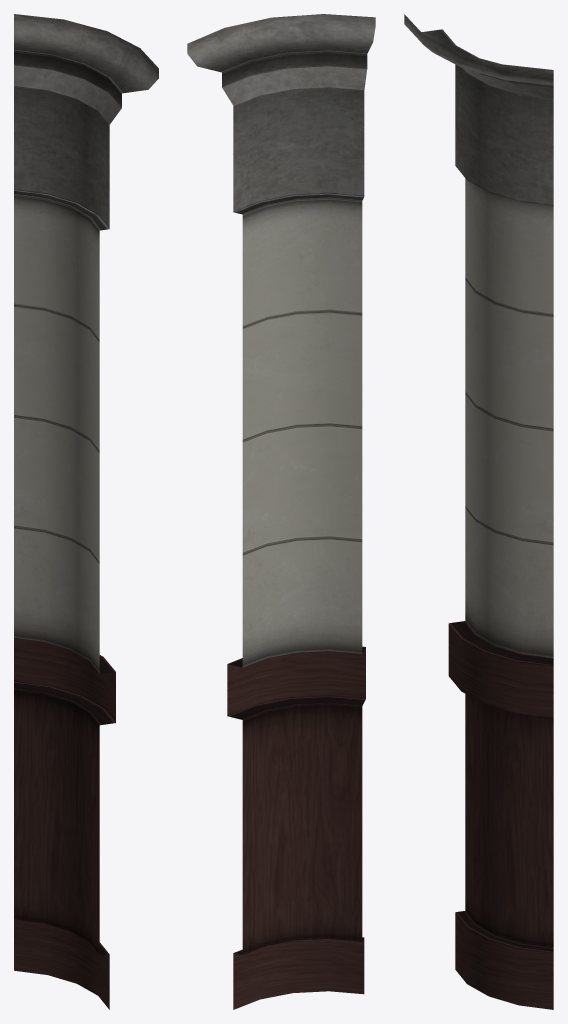
Rendered from Wall 6 Corner Pillar 4.fbx.
The picture shows the model from 3 angles, left to right: view 1: azimuth 90°, elevation 25°; view 2: azimuth 150°, elevation 25°; view 3: azimuth 270°, elevation 25°; orthographic projection. The views are drawn at different scales.
Visible parts, largest first — view 1: Wall_6_Corner_Pillar_4; view 2: Wall_6_Corner_Pillar_4; view 3: Wall_6_Corner_Pillar_4.
Part boxes in pixels (<box>): Wall_6_Corner_Pillar_4: <box>14,14,158,1009</box>; Wall_6_Corner_Pillar_4: <box>187,14,375,1009</box>; Wall_6_Corner_Pillar_4: <box>404,14,553,1009</box>.
Size of the model in its own units: 43.06 by 300 by 42.17.
